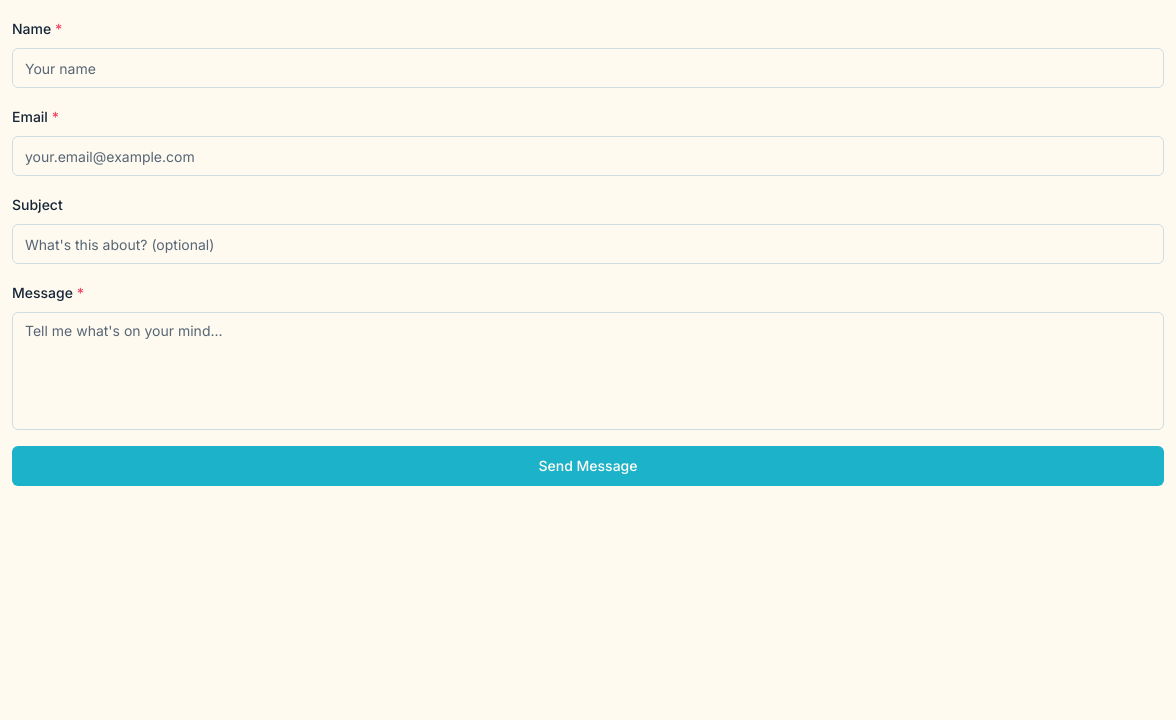
ContactForm › Form Validation › validates email format
Type "John" into the field labelled "Name *" at coordinates (588, 68), box 12,48 -> 1164,88
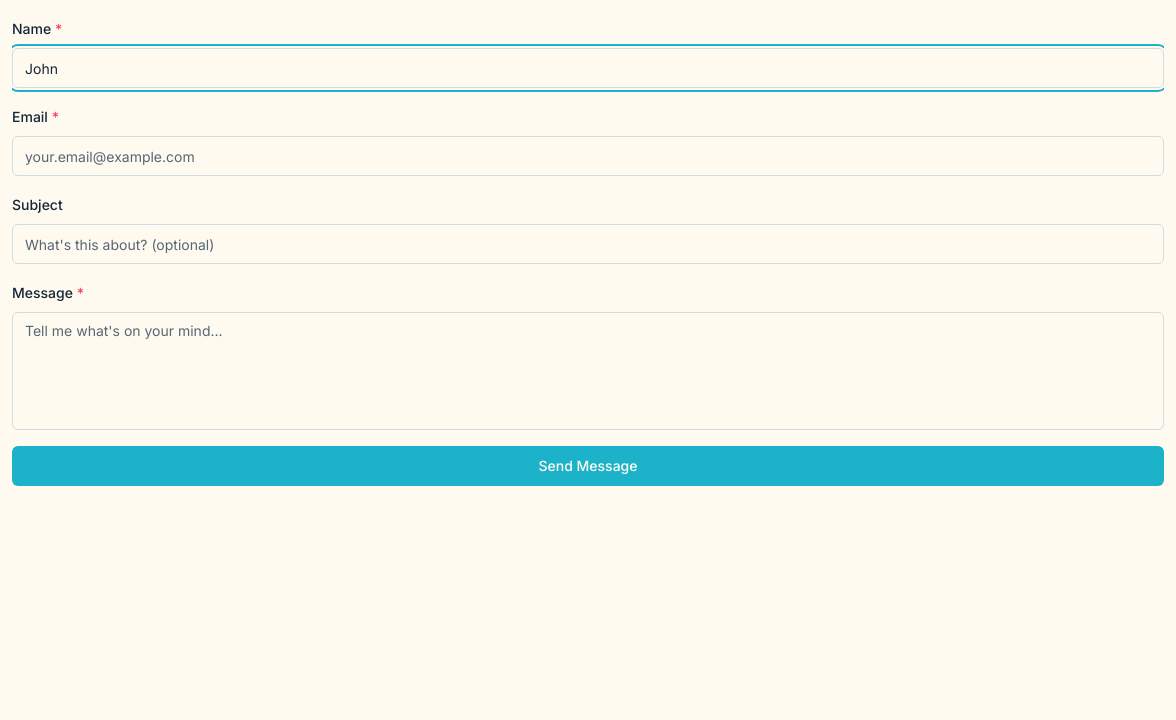
Type "invalid-email@c" into the field labelled "Email *" at coordinates (588, 156), box 12,136 -> 1164,176
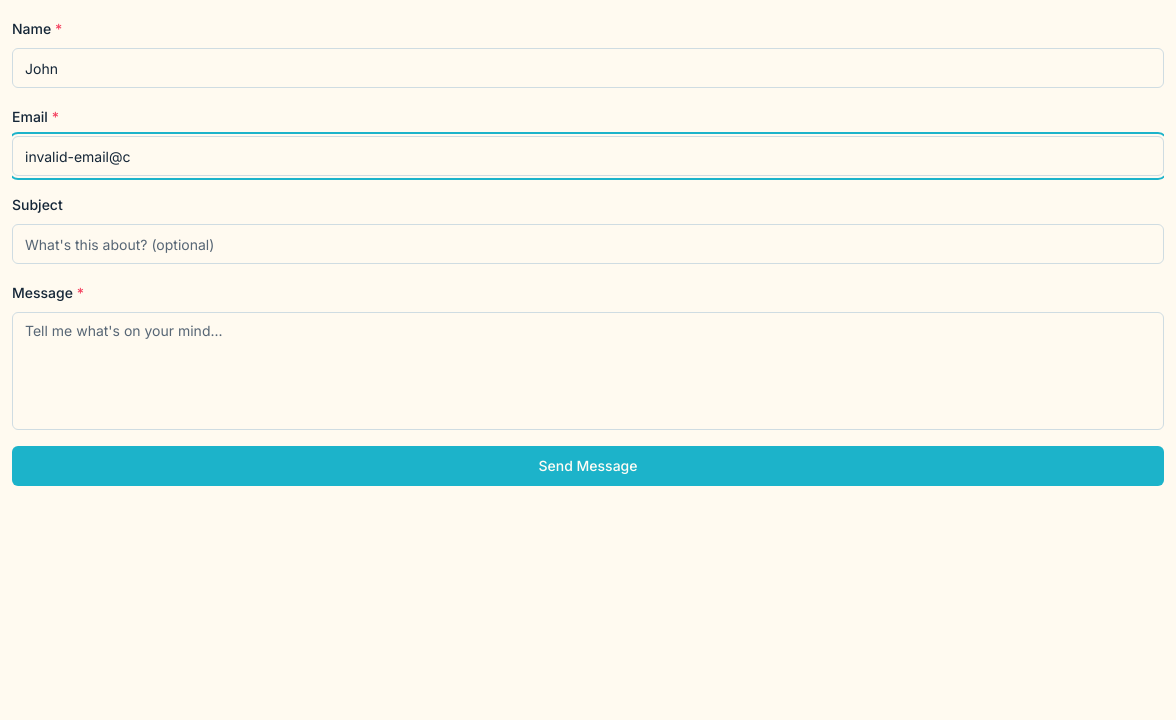
Type "Message" into the text box labelled "Message *" at coordinates (588, 371), box 12,312 -> 1164,430
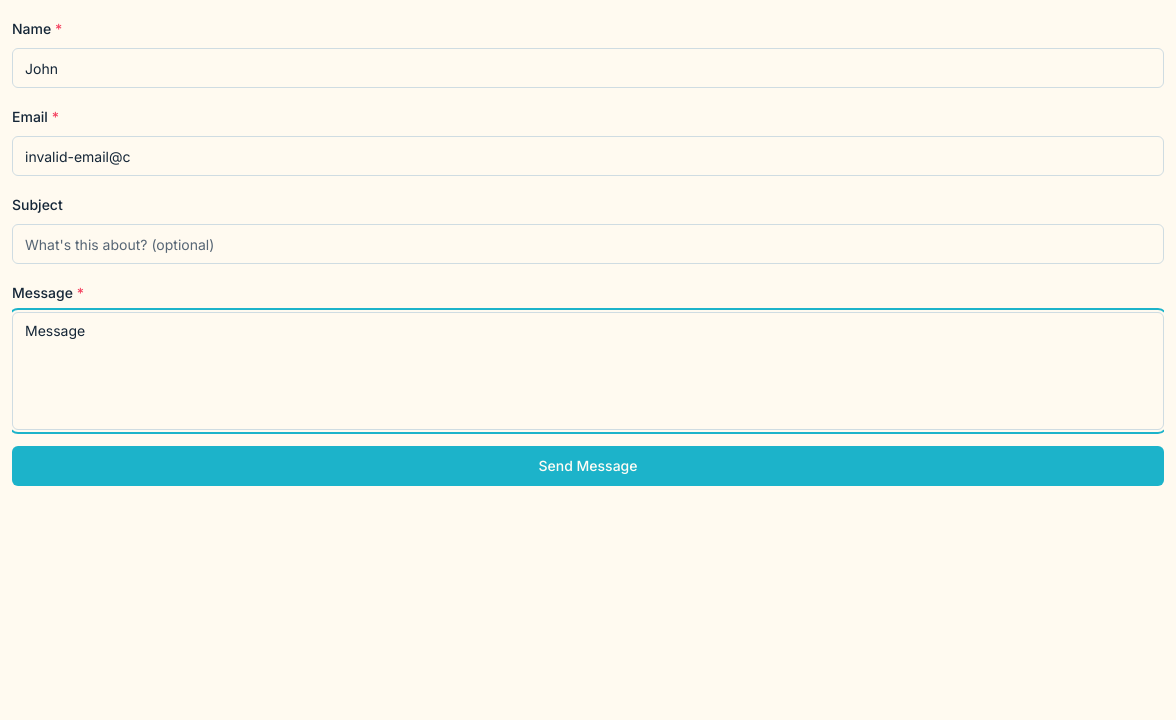
Click the button "Send Message" at coordinates (588, 466), box 12,446 -> 1164,486
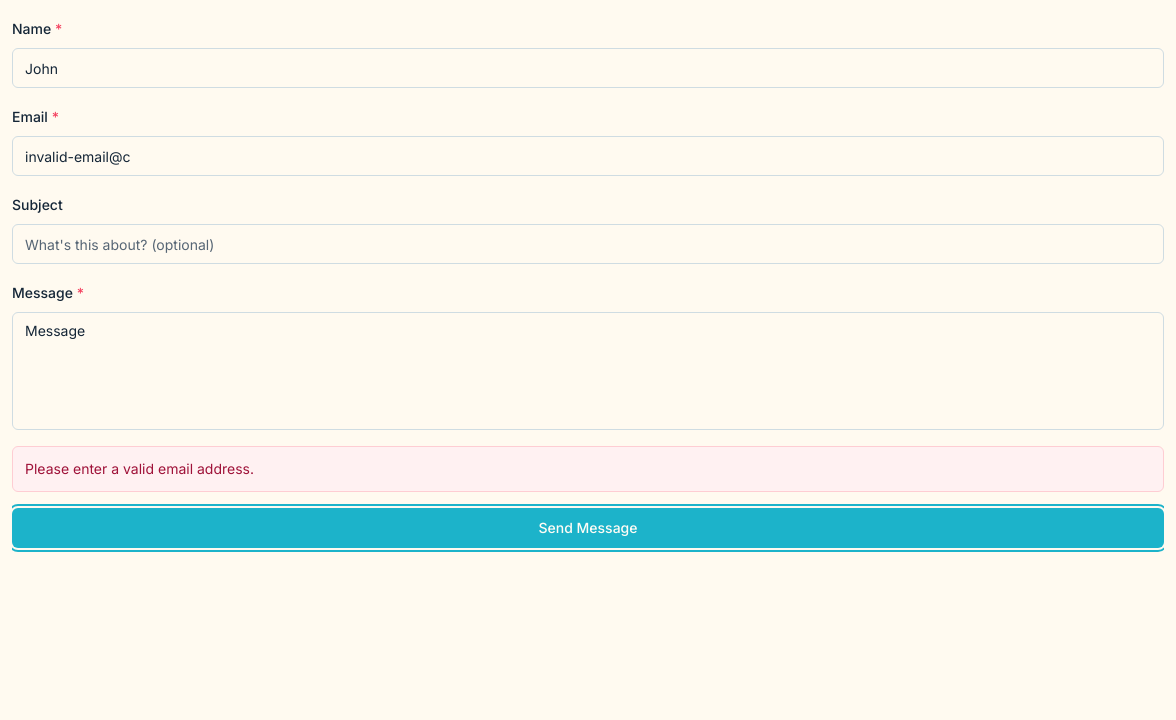
Expected: the text "Please enter a valid email address." is shown, 12,446 -> 1164,492
